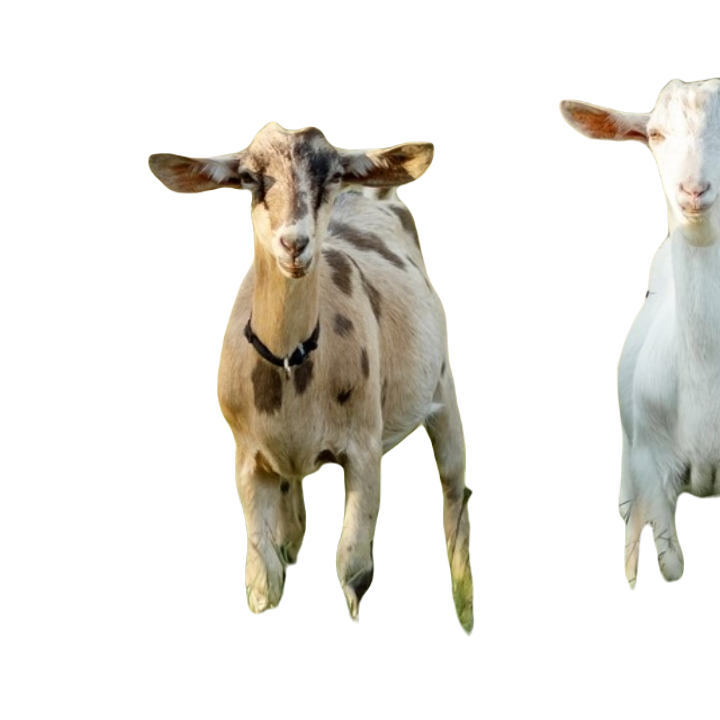Goat: (146, 114, 474, 633)
